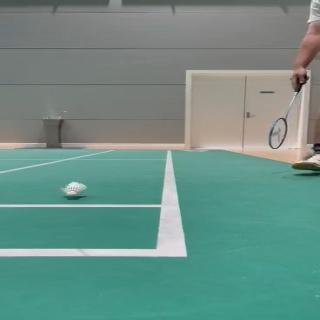Shuttle: (60, 182, 87, 196)
